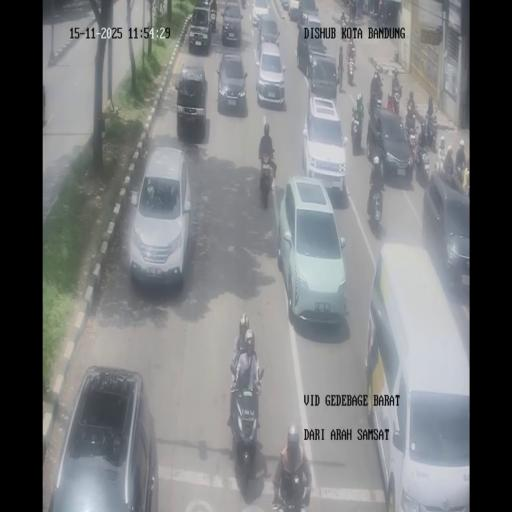car: (365, 246, 470, 504), (48, 365, 156, 511), (279, 176, 349, 324), (129, 146, 193, 286), (423, 171, 469, 292), (302, 97, 347, 197), (366, 106, 414, 183), (175, 62, 208, 138), (216, 52, 248, 116), (306, 51, 338, 101), (188, 2, 215, 52), (255, 13, 281, 57), (221, 2, 243, 46), (297, 0, 319, 27), (305, 33, 327, 56), (287, 0, 300, 20), (280, 0, 288, 10)
truck: (229, 368, 266, 494), (271, 464, 311, 511), (258, 150, 277, 209), (367, 176, 384, 226), (414, 136, 431, 182), (422, 109, 437, 148), (350, 108, 361, 149), (404, 123, 416, 156), (369, 88, 382, 118), (346, 52, 356, 86), (388, 90, 400, 115), (435, 150, 447, 174), (454, 163, 466, 187), (406, 90, 416, 118), (366, 4, 378, 26), (336, 57, 344, 89), (377, 0, 386, 24), (340, 16, 348, 39), (348, 0, 356, 22), (210, 8, 216, 33), (241, 0, 246, 9)
